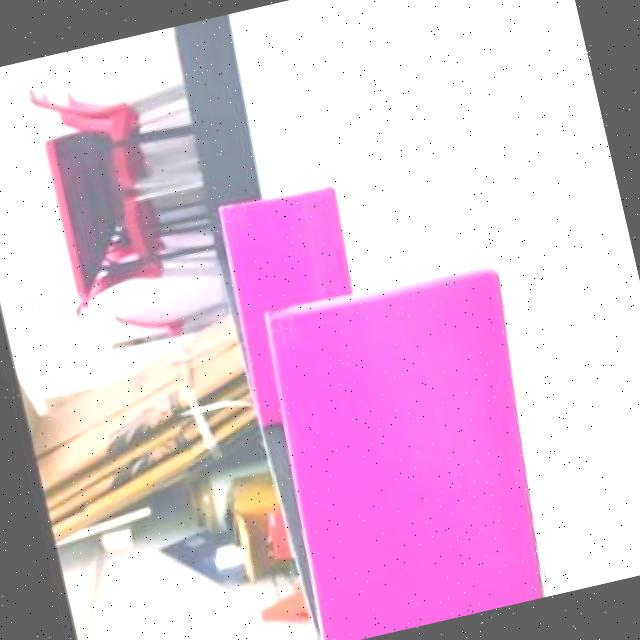xparking: (266, 263, 561, 640), (220, 185, 350, 314)
